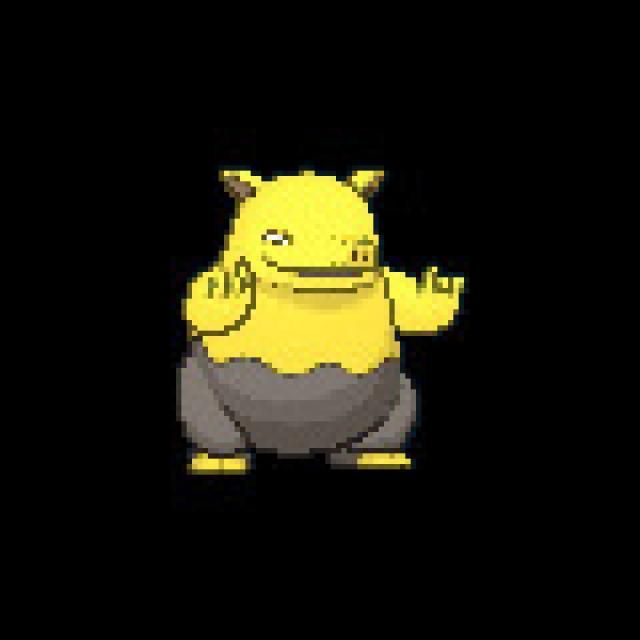Drowzee: (168, 160, 474, 474)
